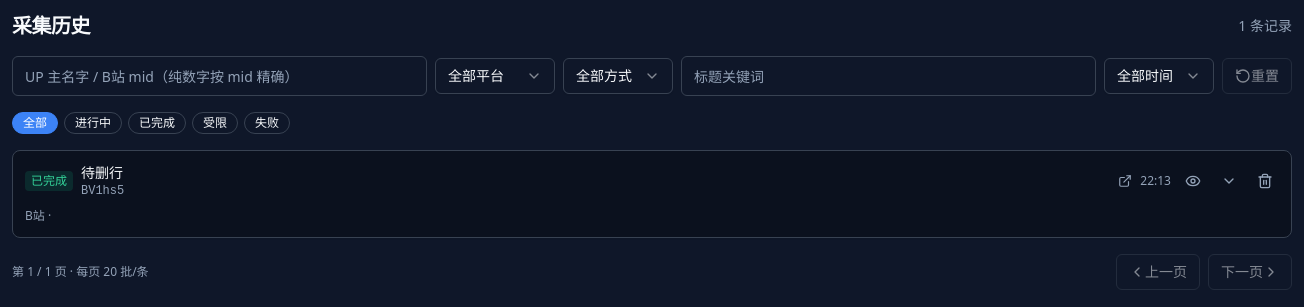
Test: 删除与单元口径：删单任务/批次成员后重拉对齐（total 不再按成员数本地推算）
Expected: the text "待删行" is shown, [81,163,123,182]
Click the button named "删除任务". click: (1265, 181)
box: [1251,167,1279,195]
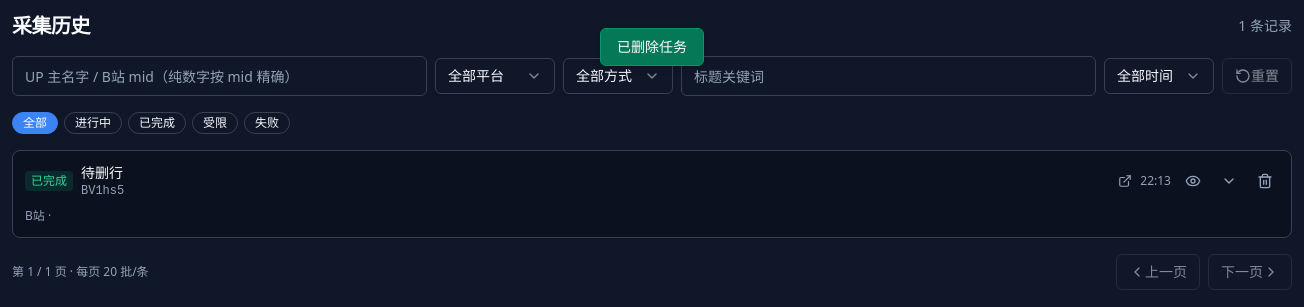
Now the text "已删除任务" is shown, box [600,28,704,66]
